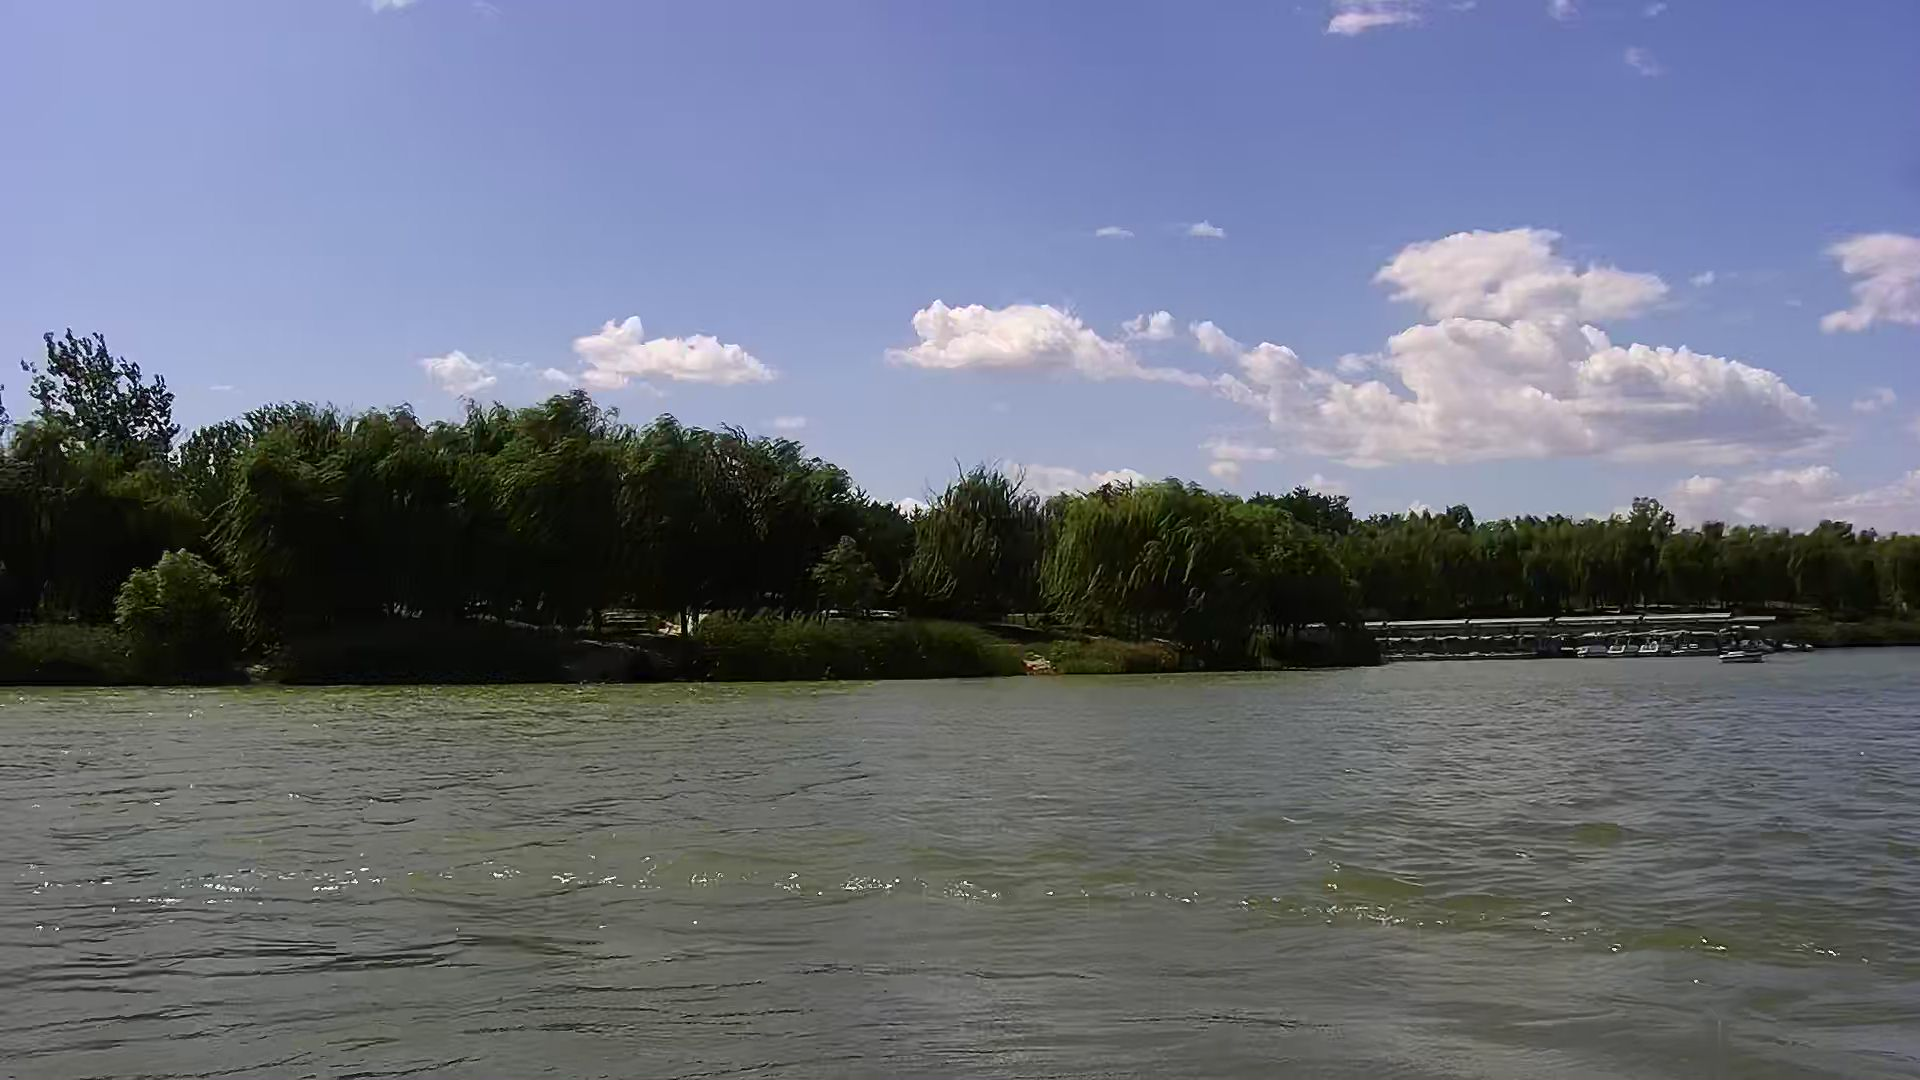boat: (1671, 626, 1724, 659), (1638, 628, 1672, 658), (1575, 630, 1605, 659), (1607, 630, 1638, 659), (1718, 650, 1763, 662)
harbor: (1389, 617, 1780, 655)
